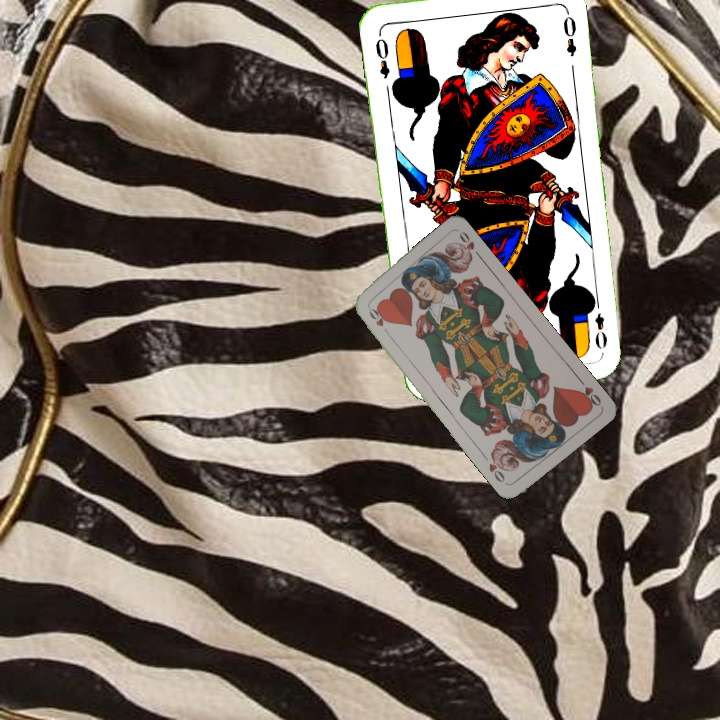EO: (586, 295, 610, 352), (371, 34, 392, 81)
HO: (574, 374, 604, 410), (364, 303, 392, 338)
